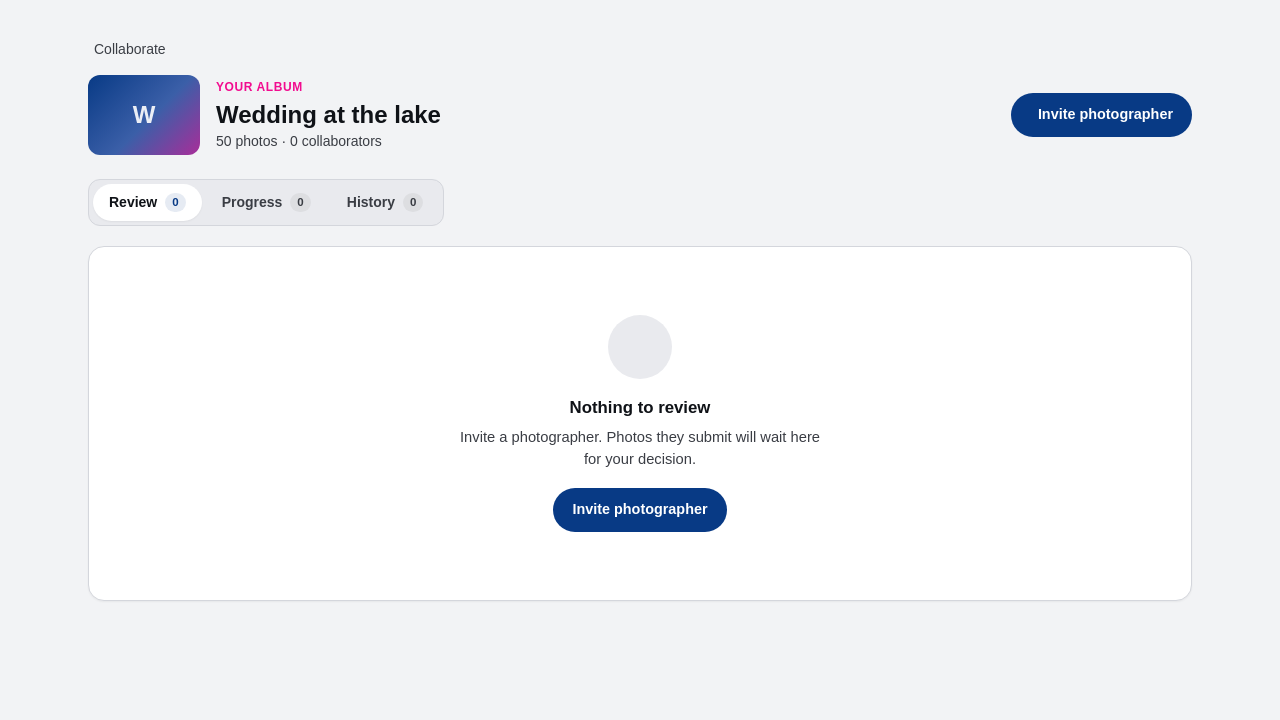
Test: when there is nothing to track yet › invites someone when there are no collaborators and nobody has ever sent photos
This screenshot has width=1280, height=720.
What coordinates should you click on to do the following:
click the tab "Progress 0"
I would click on:
 (266, 202)
Its box is [206,184,327,221].
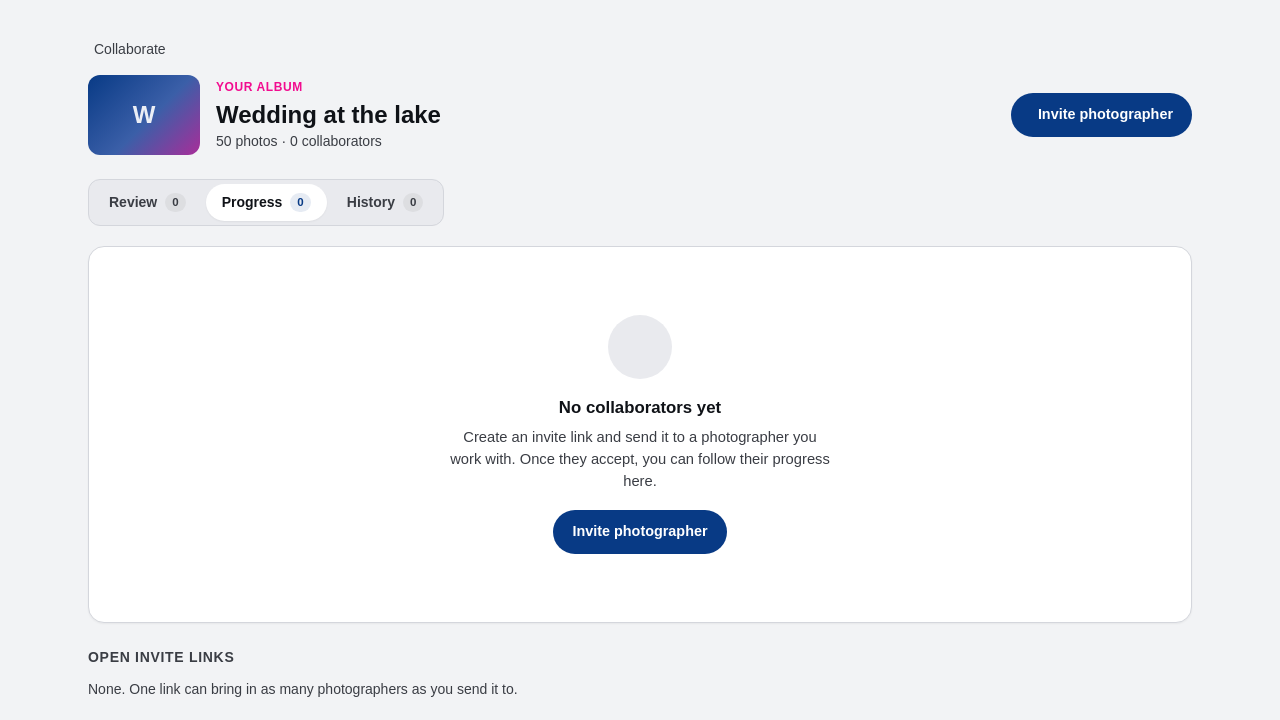
expect the text "No collaborators yet" is shown: met, box [559,395,721,420]
expect the text "you can follow their progress here" is shown: met, box [450,429,830,489]
